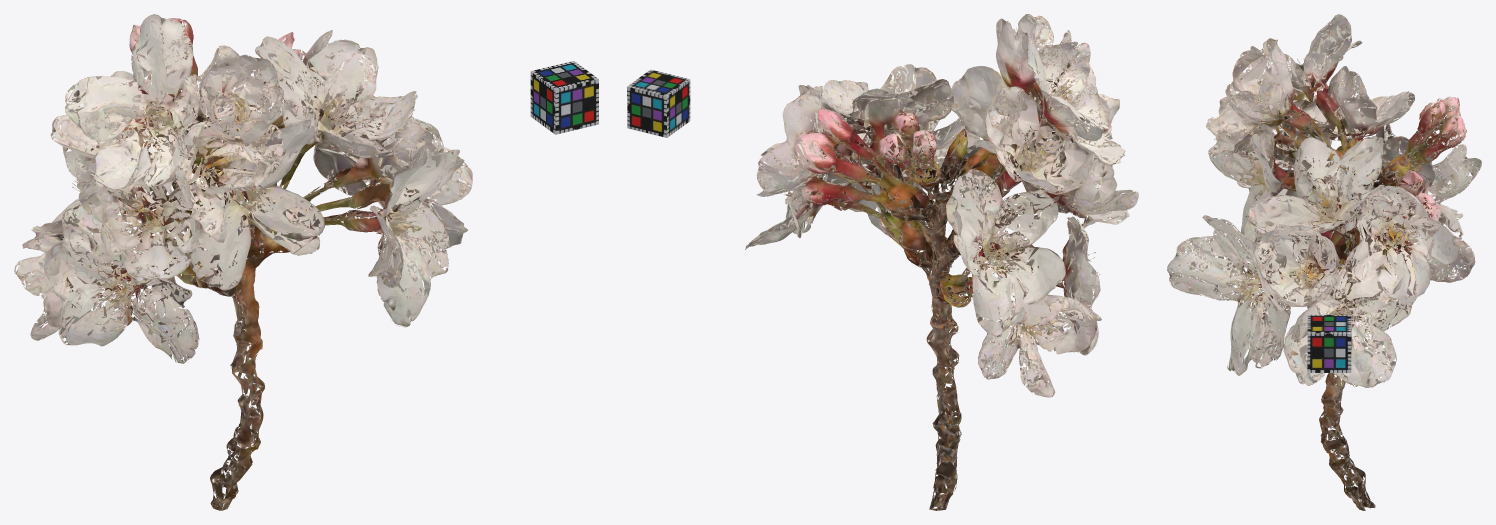
The model's file is bush3_quest.glb.
3 renders of one model, left to right at view 1: azimuth 30°, elevation 25°; view 2: azimuth 150°, elevation 25°; view 3: azimuth 270°, elevation 25°, orthographic. The views are drawn at different scales.
Visible parts, largest first — view 1: Object_6, Object_12, Object_22, Object_18, Object_4; view 2: Object_6, Object_12, Object_22, Object_18, Object_4; view 3: Object_6, Object_12, Object_18, Object_22, Object_4.
Boxes of the visible parts, x1=… form: Object_6: x1=17, y1=17, x2=472, y2=510; Object_12: x1=14, y1=14, x2=472, y2=510; Object_22: x1=25, y1=14, x2=468, y2=449; Object_18: x1=15, y1=18, x2=472, y2=505; Object_4: x1=530, y1=61, x2=598, y2=134; Object_6: x1=745, y1=14, x2=1132, y2=510; Object_12: x1=746, y1=14, x2=1138, y2=510; Object_22: x1=748, y1=19, x2=1125, y2=430; Object_18: x1=749, y1=15, x2=1138, y2=504; Object_4: x1=627, y1=69, x2=690, y2=137; Object_6: x1=1167, y1=17, x2=1481, y2=510; Object_12: x1=1168, y1=14, x2=1481, y2=508; Object_18: x1=1171, y1=27, x2=1478, y2=507; Object_22: x1=1204, y1=14, x2=1469, y2=387; Object_4: x1=1307, y1=314, x2=1351, y2=373.
Bounding box in the file's own units: 9.23 × 8.69 × 5.4.
Materials: 5 (5 with a texture image).
